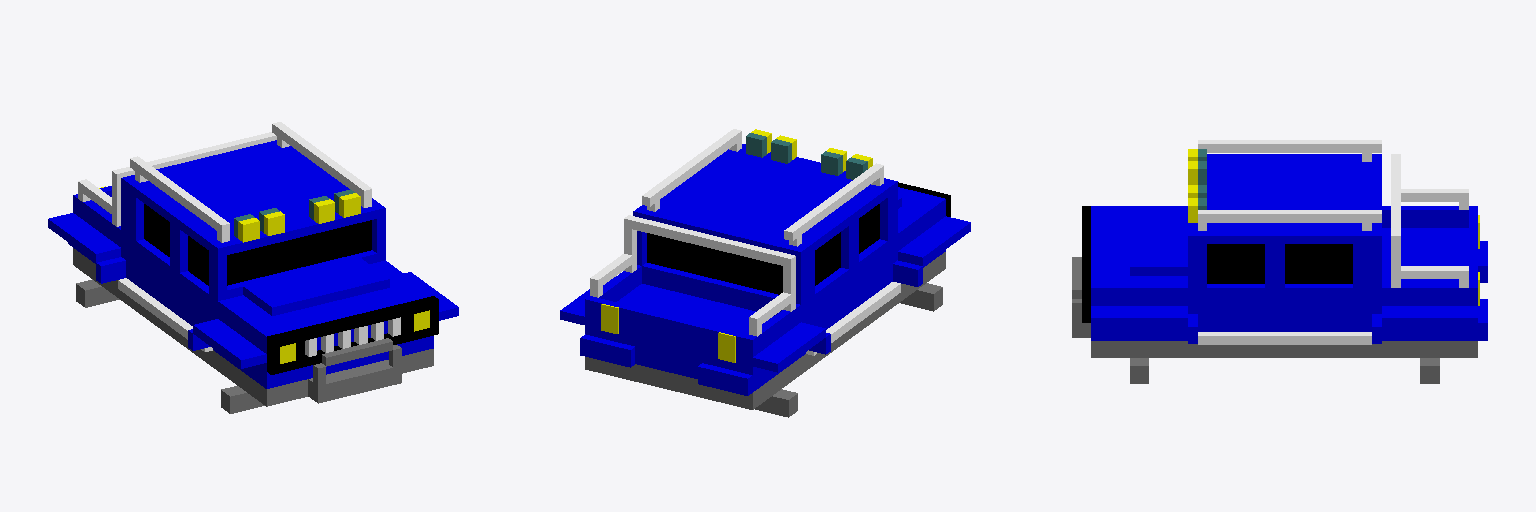
Rendered from car.obj.
3 renders of one model, left to right at view 1: azimuth 30°, elevation 25°; view 2: azimuth 150°, elevation 25°; view 3: azimuth 270°, elevation 25°, orthographic.
Bounding box in the file's own units: 2.6 × 1.8 × 4.3.